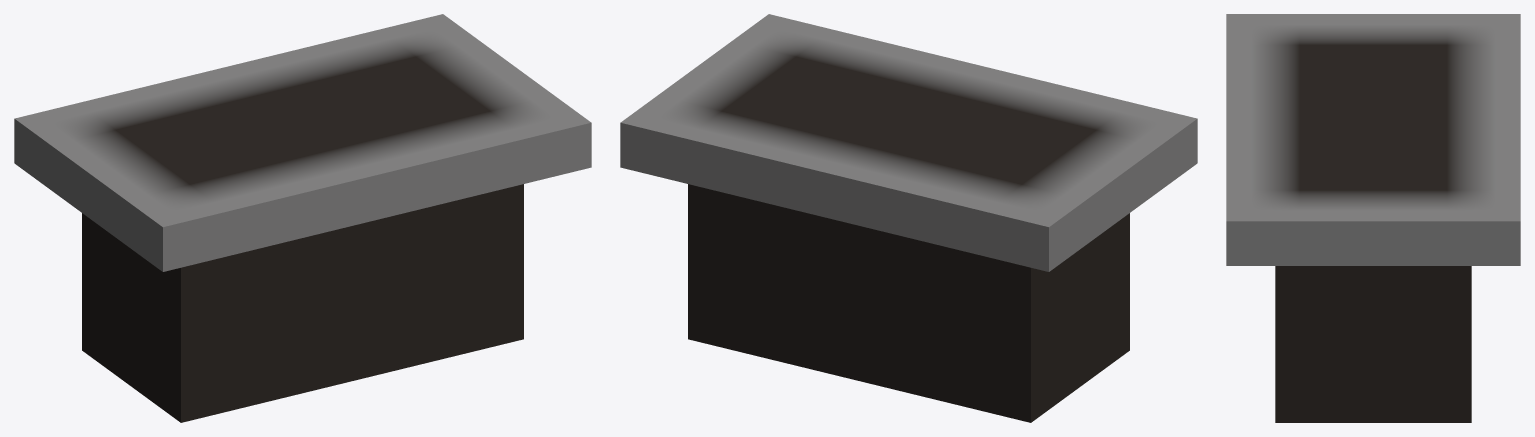
The model's file is patches_pelvis.fbx.
The picture shows the model from 3 angles, left to right: view 1: azimuth 30°, elevation 25°; view 2: azimuth 150°, elevation 25°; view 3: azimuth 270°, elevation 25°; orthographic projection.
Visible parts, largest first — view 1: patches_pelvis; view 2: patches_pelvis; view 3: patches_pelvis.
Part boxes in pixels (bbox=[...]): patches_pelvis: bbox=[14, 14, 591, 422]; patches_pelvis: bbox=[620, 14, 1197, 422]; patches_pelvis: bbox=[1226, 14, 1520, 422].
Size of the model in its own units: 10 by 5 by 6.
Materials: 1 (1 with a texture image).
